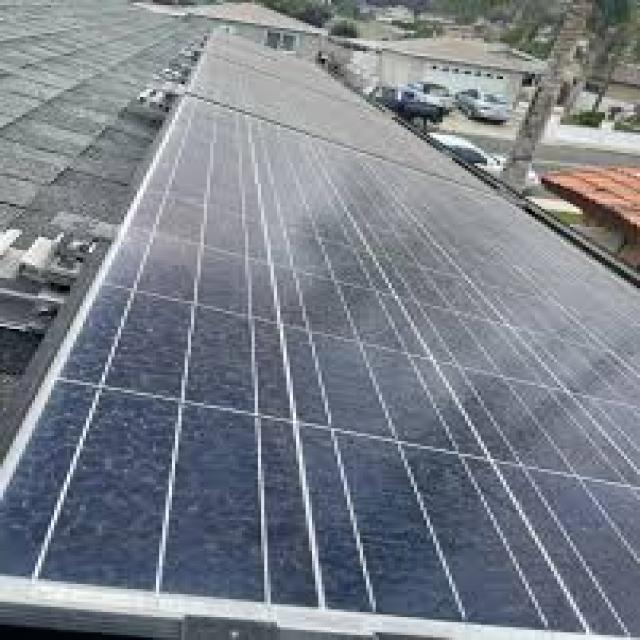dust-solar-panel: (3, 26, 640, 640)
